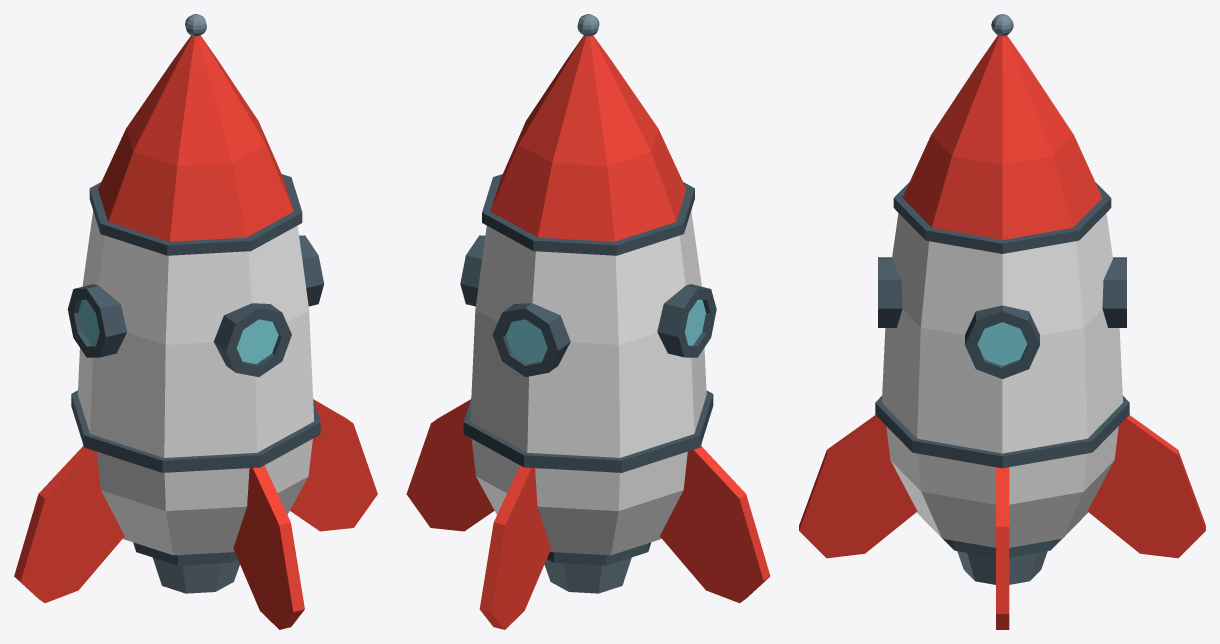
Rendered from rocket.glb.
3 views of the same model, side by side, from view 1: azimuth 30°, elevation 25°; view 2: azimuth 150°, elevation 25°; view 3: azimuth 270°, elevation 25° (orthographic).
Visible parts, largest first — view 1: Rocket_Ship_Circle.003; view 2: Rocket_Ship_Circle.003; view 3: Rocket_Ship_Circle.003.
Part boxes in pixels (<box>): Rocket_Ship_Circle.003: <box>14,14,377,629</box>; Rocket_Ship_Circle.003: <box>406,14,770,629</box>; Rocket_Ship_Circle.003: <box>799,14,1205,629</box>.
Bounding box in the file's own units: 6.59 × 9.92 × 6.59.
